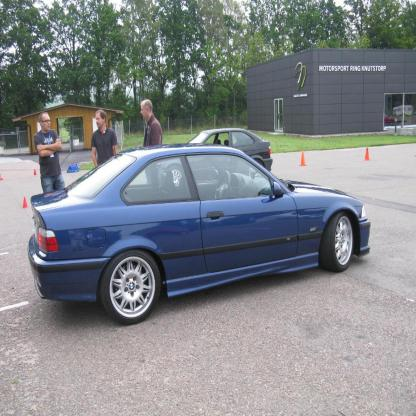Car: (28, 146, 373, 324), (146, 131, 276, 176)
